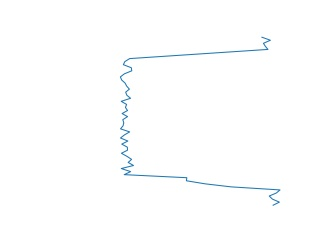distributaryChannelFill: (114, 38, 287, 206)
